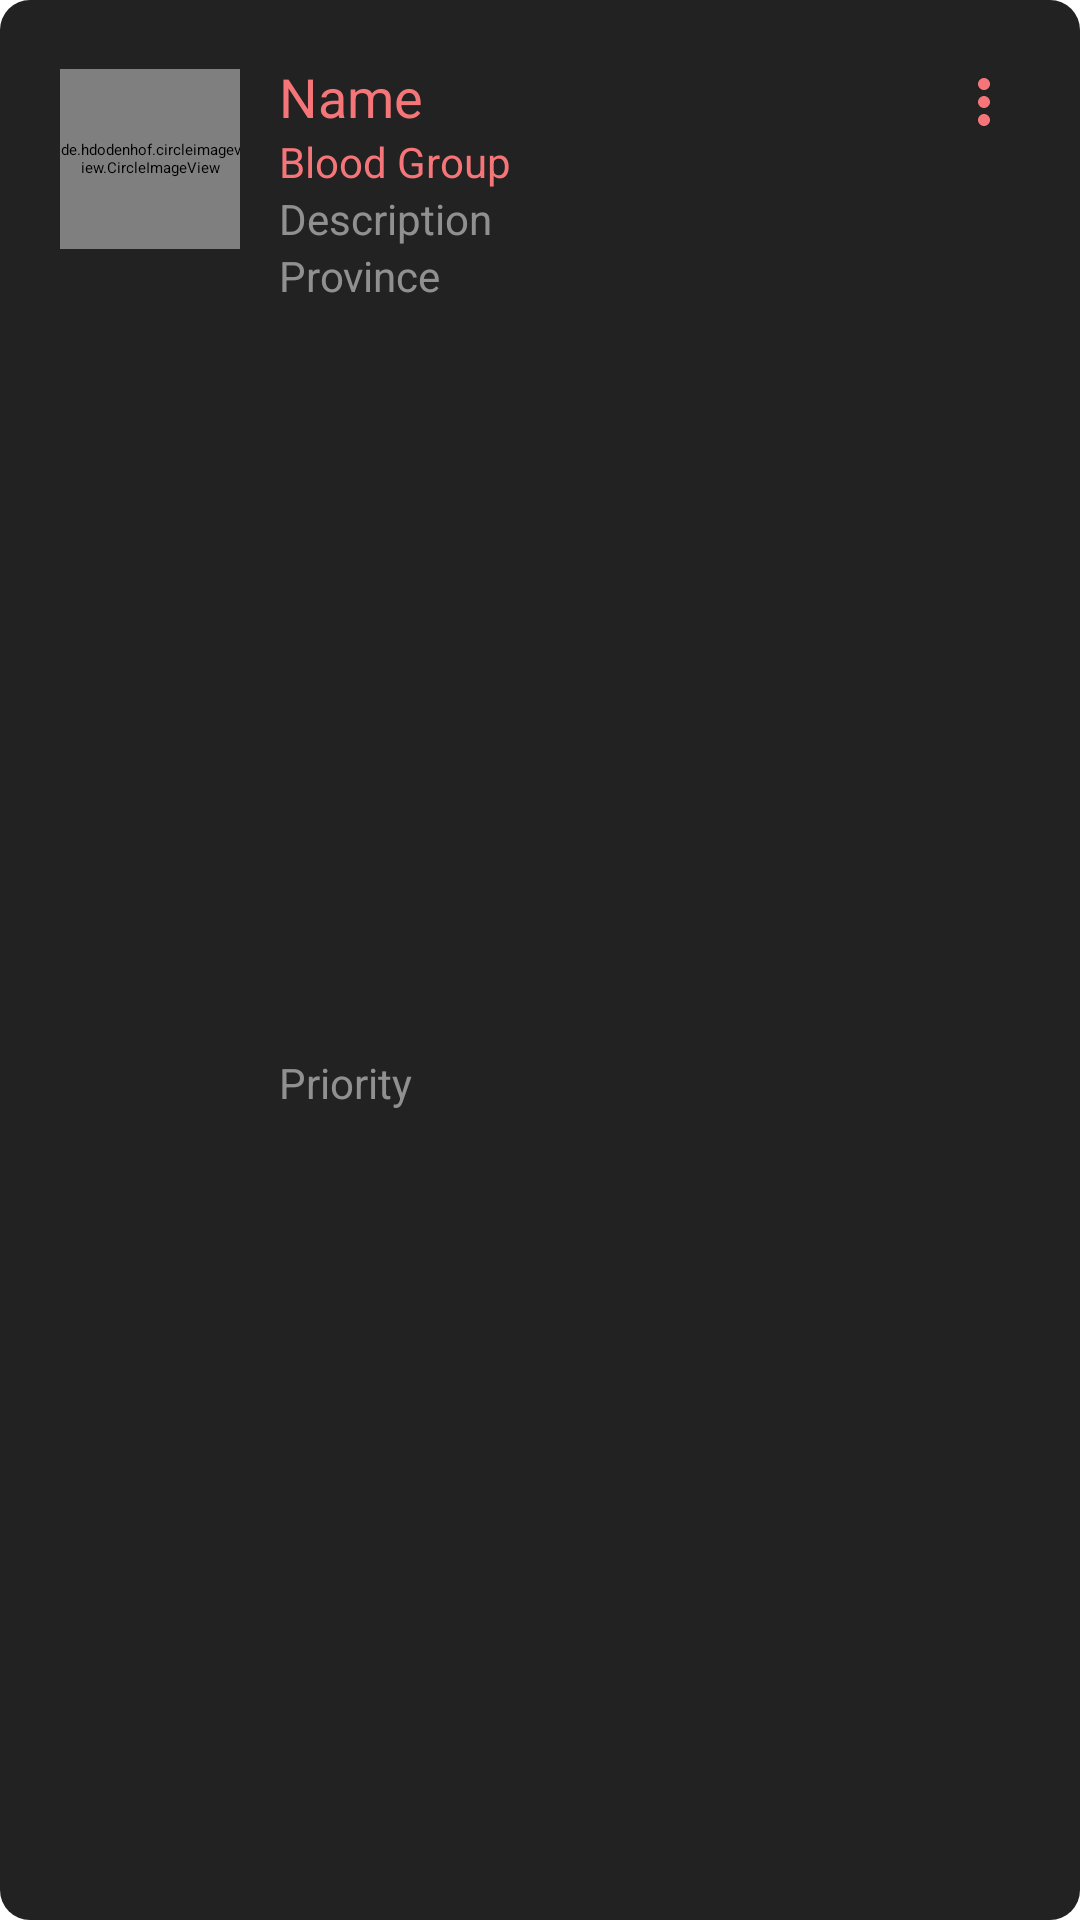

Named icons in this screenshot (1080x1920) and their bounding boxes, [x1=x1, y1=y1, x2=x2, y2=y2]:
more vert: [x1=978, y1=78, x2=990, y2=126]
